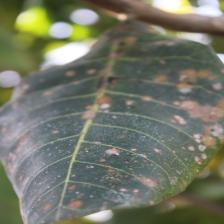red rust: (0, 18, 224, 224)
